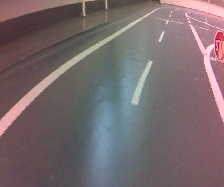stop sign: (212, 30, 224, 60)
